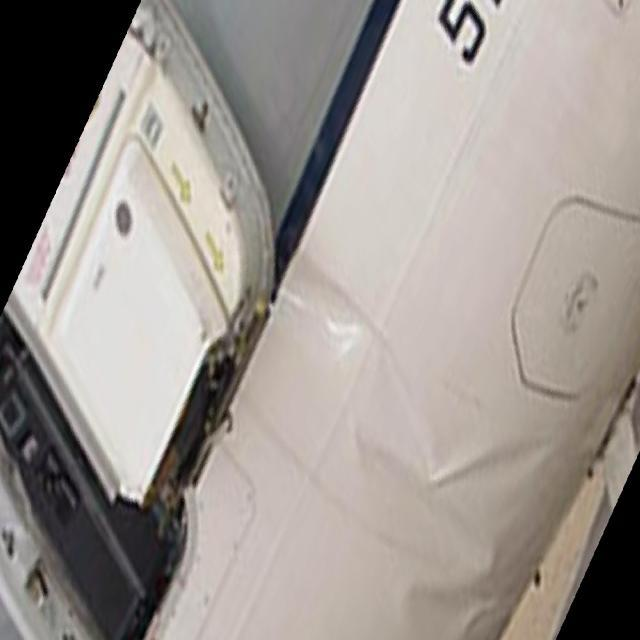dent: (279, 257, 546, 640)
